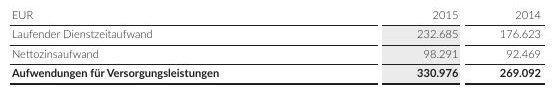table: (0, 0, 557, 94)
